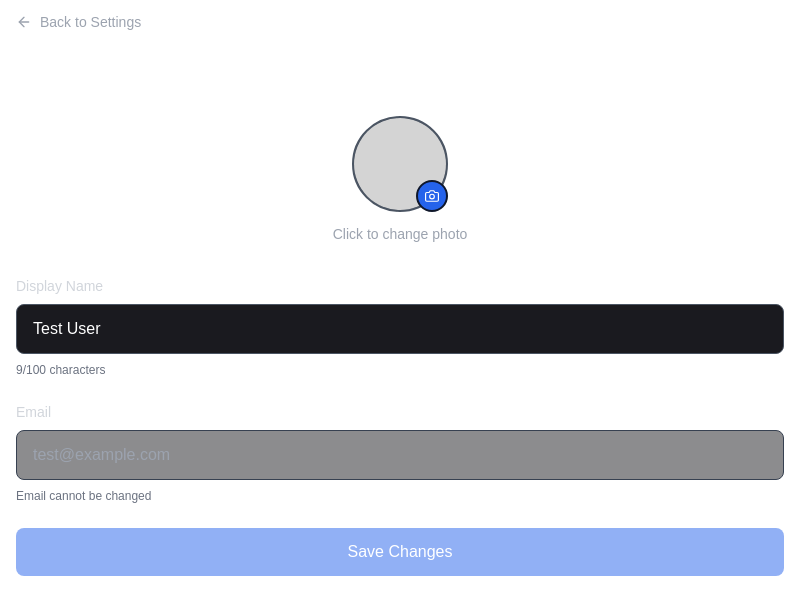
Test: ProfilePage › AC2: Update Display Name › enables save button when display name changed
The image size is (801, 593).
Step 1. Replace the text in the field labelled "Display Name" with "Different Name" → (400, 329), box [16, 304, 784, 354]
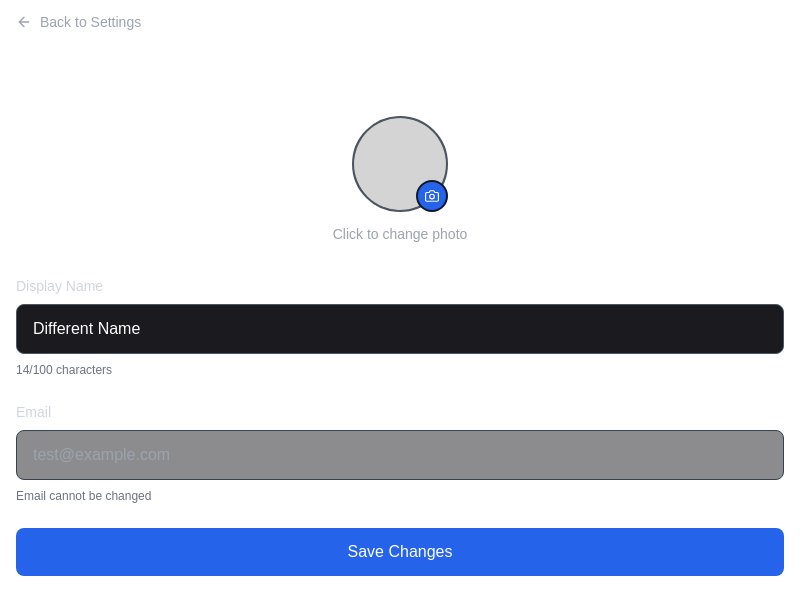
Result: the button "Save Changes" is enabled at [16, 528, 784, 576]
